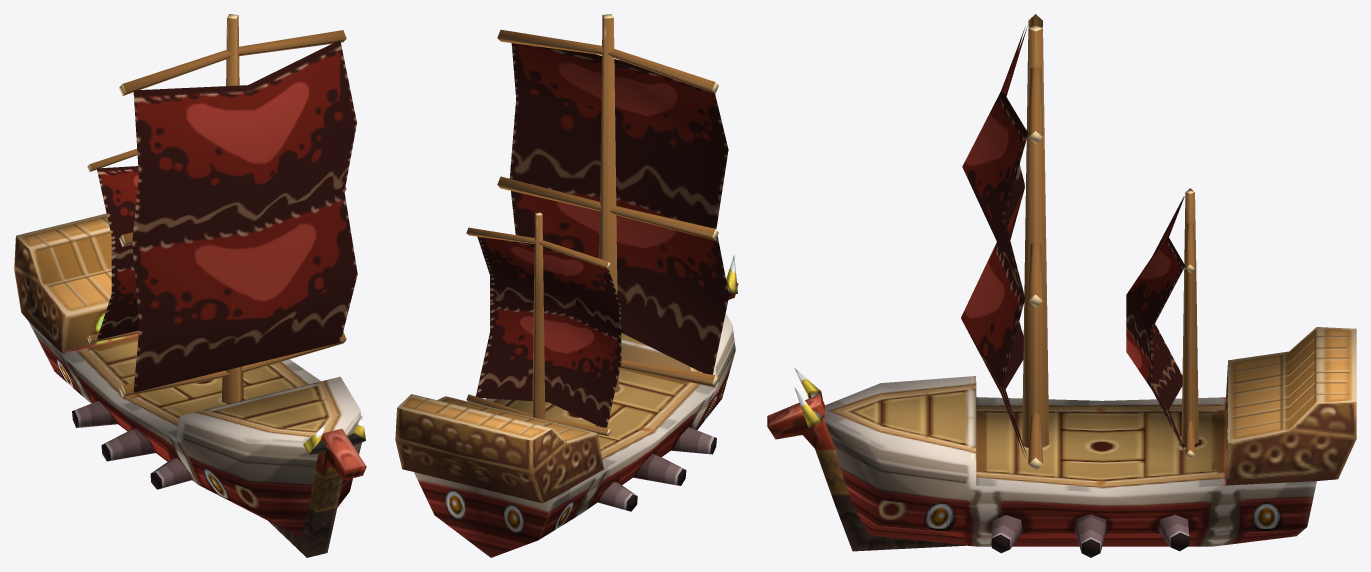
File: xsyh.FBX
3 views of the same model, side by side, from view 1: azimuth 30°, elevation 25°; view 2: azimuth 150°, elevation 25°; view 3: azimuth 270°, elevation 25° (orthographic). The views are drawn at different scales.
Parts seen in each view (by area): view 1: xsyh_02, xsyh_01, xsyh_03; view 2: xsyh_02, xsyh_01, xsyh_03; view 3: xsyh_01, xsyh_02, xsyh_03.
Part boxes in pixels (x1,y1,x2,y2): xsyh_02: (119,14,357,402); xsyh_01: (14,213,366,557); xsyh_03: (87,148,139,343); xsyh_02: (497,14,728,392); xsyh_01: (395,254,738,557); xsyh_03: (466,212,621,436); xsyh_01: (767,327,1356,557); xsyh_02: (961,14,1049,470); xsyh_03: (1126,188,1198,458).
Bounding box in the file's own units: 59.63 × 123 × 127.
